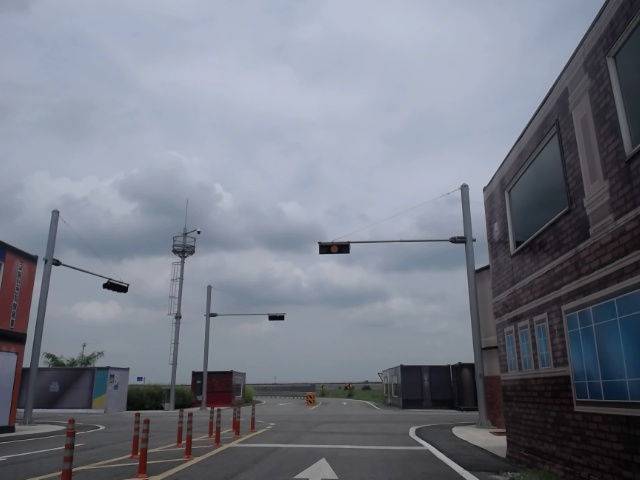orange_3: (319, 243, 350, 254)
